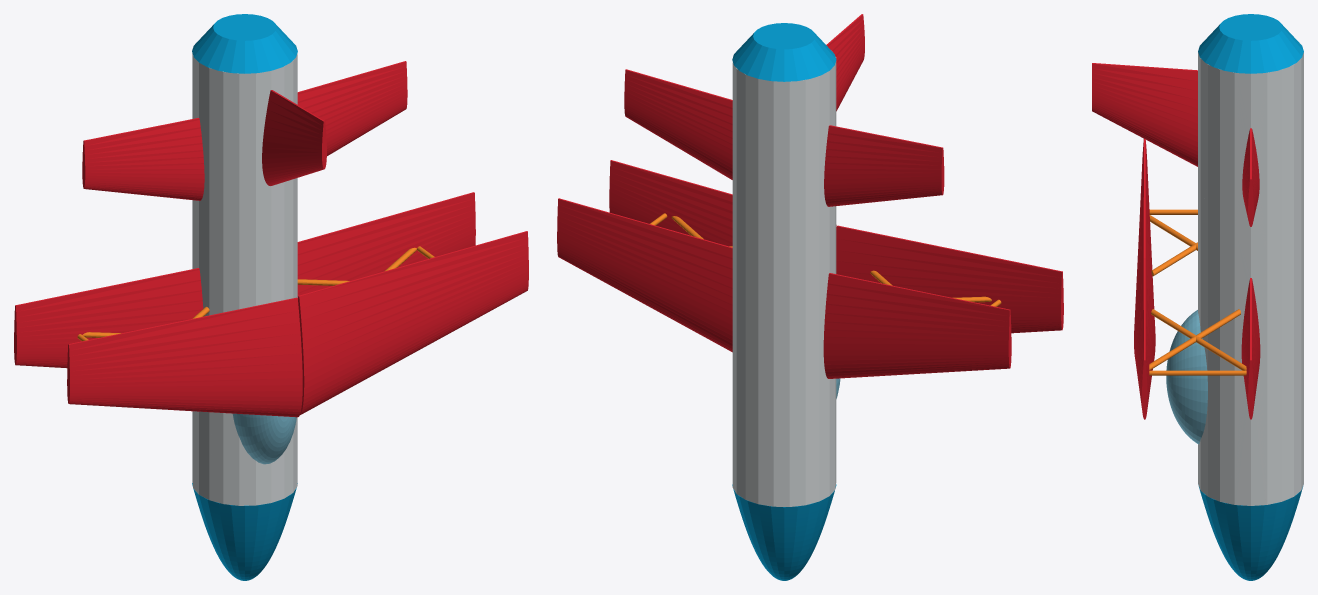
The model's file is tinker.obj.
3 renders of one model, left to right at view 1: azimuth 30°, elevation 25°; view 2: azimuth 150°, elevation 25°; view 3: azimuth 270°, elevation 25°, orthographic.
Visible parts, largest first — view 1: group_0_15277357, group_0_14541540, group_0_40919, group_0_8768998, group_0_16089887; view 2: group_0_15277357, group_0_14541540, group_0_40919, group_0_16089887; view 3: group_0_14541540, group_0_15277357, group_0_40919, group_0_8768998, group_0_16089887.
Boxes of the visible parts, x1,y1,x2,y2 form: group_0_15277357: (14,61,528,417); group_0_14541540: (192,42,297,505); group_0_40919: (192,14,297,580); group_0_8768998: (232,413,296,464); group_0_16089887: (77,246,434,341); group_0_15277357: (557,14,1063,378); group_0_14541540: (732,55,836,506); group_0_40919: (732,23,836,580); group_0_16089887: (650,213,1001,306); group_0_14541540: (1198,43,1303,505); group_0_15277357: (1092,63,1260,419); group_0_40919: (1198,14,1303,580); group_0_8768998: (1166,310,1207,444); group_0_16089887: (1149,209,1246,375).
Size of the model in its own units: 100 by 115 by 40.
